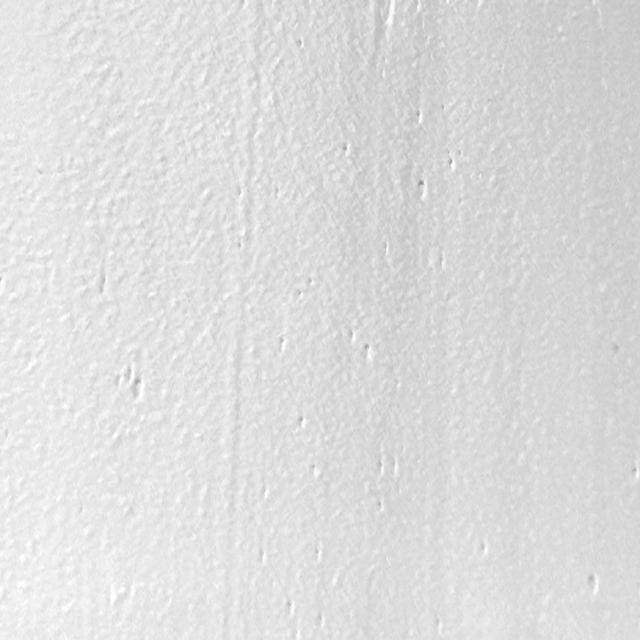pin holes: (375, 0, 398, 28), (130, 376, 150, 406), (583, 570, 603, 598), (413, 179, 432, 205), (375, 454, 397, 476), (606, 340, 626, 363), (360, 342, 378, 367), (428, 614, 448, 636), (474, 540, 492, 564), (96, 270, 112, 297), (293, 413, 311, 436), (280, 599, 297, 623), (274, 331, 289, 355), (374, 458, 388, 478), (311, 546, 325, 566), (256, 546, 270, 566), (313, 612, 327, 630), (374, 498, 388, 516), (292, 290, 307, 306), (340, 142, 353, 160), (307, 462, 320, 479), (628, 464, 639, 484), (445, 154, 457, 172), (304, 274, 317, 290), (412, 110, 424, 127), (295, 38, 306, 54)
